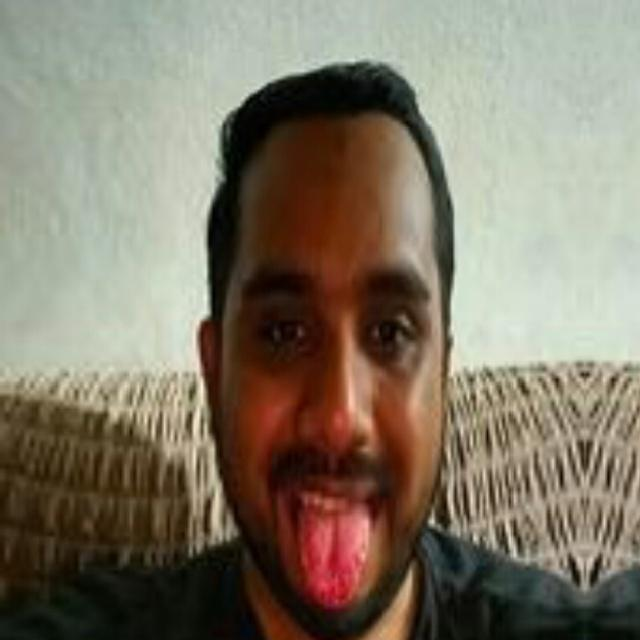Happy: (170, 83, 504, 606)
